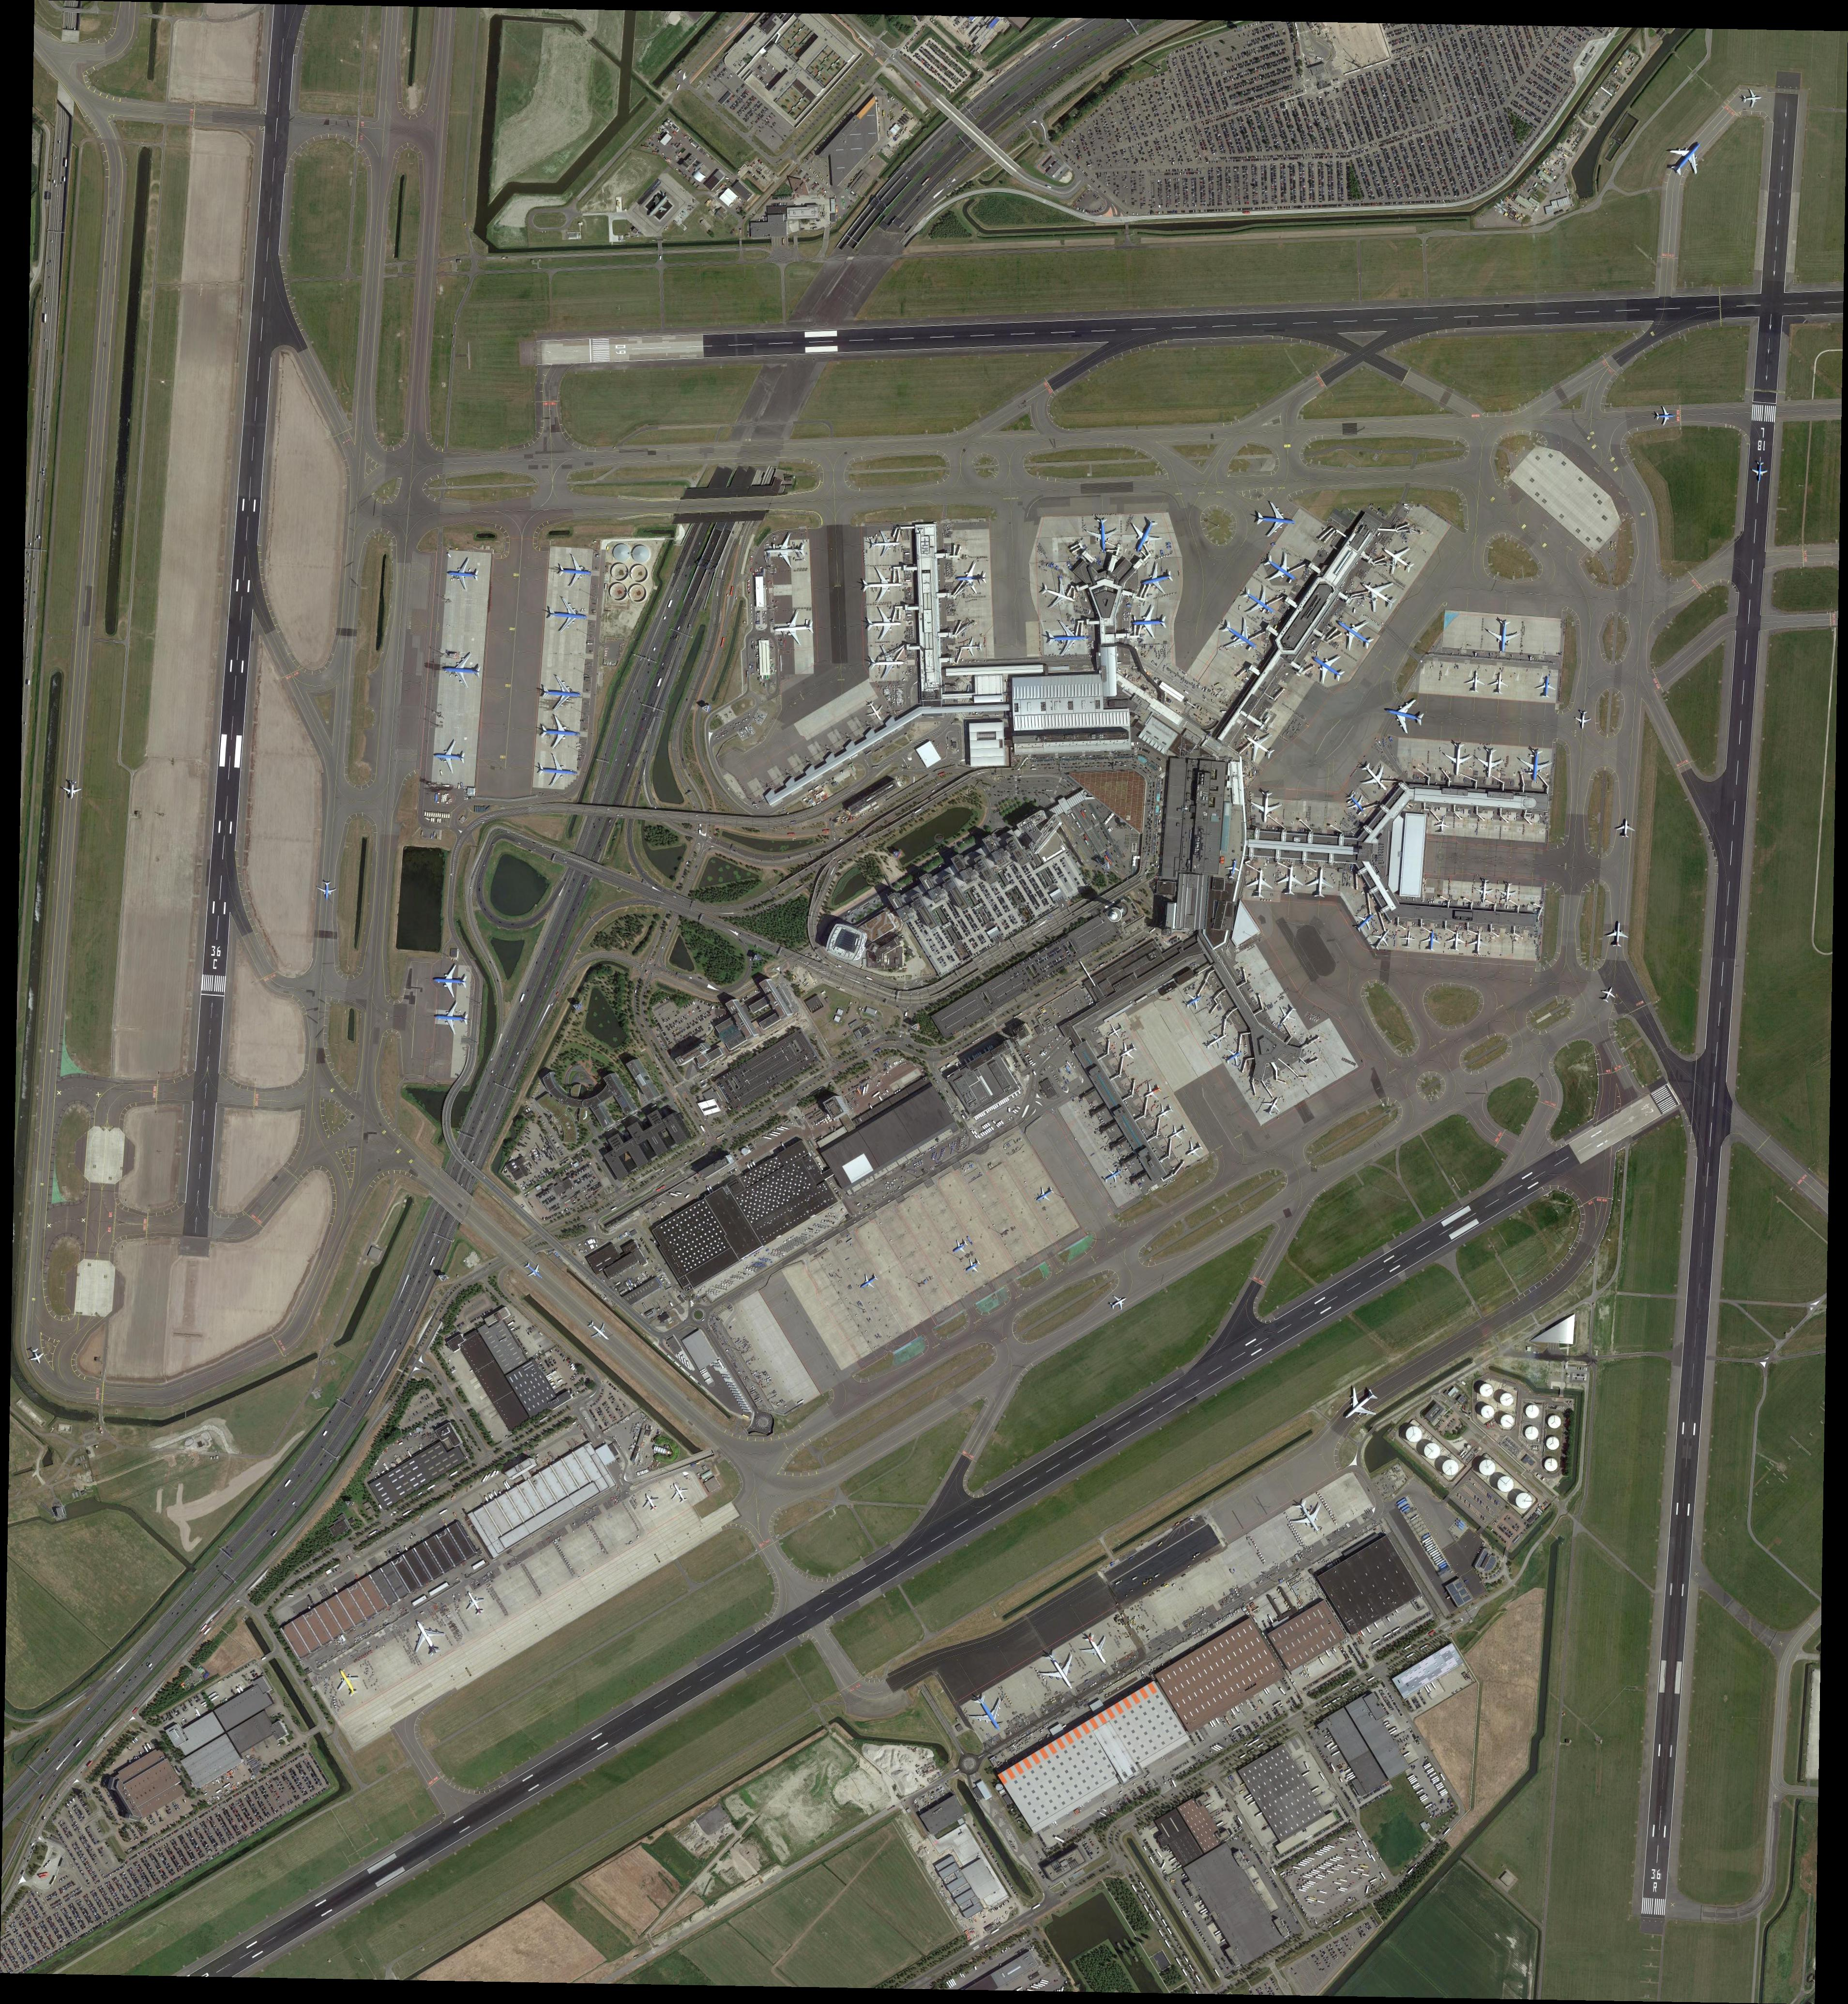plane: (1206, 607, 1270, 662), (1656, 131, 1715, 187), (1031, 1643, 1087, 1697), (400, 1609, 455, 1664), (1333, 1377, 1387, 1433), (963, 1685, 1016, 1740), (1326, 604, 1382, 656), (1235, 573, 1291, 625), (1283, 1491, 1333, 1545), (1258, 541, 1312, 590), (1356, 569, 1407, 620), (1304, 646, 1356, 695), (1379, 691, 1433, 737), (1120, 511, 1169, 560), (1375, 536, 1426, 583), (1249, 492, 1300, 538), (1037, 571, 1084, 618), (1352, 752, 1400, 800), (1235, 723, 1281, 770), (1073, 1623, 1117, 1671), (537, 670, 585, 714), (543, 594, 590, 635), (438, 651, 485, 693), (1513, 742, 1558, 784), (766, 529, 808, 571), (431, 1000, 475, 1040), (550, 552, 593, 592), (1045, 620, 1091, 658), (532, 751, 578, 789), (775, 606, 815, 648), (445, 553, 483, 597), (1138, 560, 1178, 601), (862, 566, 904, 604), (1482, 614, 1523, 653), (328, 1662, 366, 1702), (433, 737, 471, 777), (431, 964, 473, 1000), (536, 716, 581, 749), (869, 641, 906, 681), (1249, 787, 1286, 826), (866, 604, 904, 641), (579, 1313, 618, 1349), (1085, 515, 1120, 555), (457, 1585, 492, 1623), (955, 557, 988, 597), (1441, 738, 1475, 777), (1347, 904, 1382, 939), (1246, 861, 1274, 904), (642, 185, 675, 222), (1134, 606, 1167, 641), (1475, 744, 1506, 780), (1256, 1091, 1290, 1124), (1338, 787, 1373, 819), (866, 529, 902, 559), (1365, 923, 1398, 955), (1030, 1178, 1061, 1211), (859, 695, 892, 726), (1309, 862, 1335, 901), (1215, 1042, 1248, 1072), (1199, 1023, 1232, 1053), (853, 1266, 886, 1295), (1279, 861, 1305, 897), (635, 1487, 667, 1517), (665, 1479, 695, 1508), (518, 1257, 550, 1285), (948, 1231, 974, 1262), (1098, 1163, 1126, 1191), (1605, 918, 1630, 950), (1471, 875, 1497, 902), (1738, 87, 1766, 113), (1595, 981, 1621, 1009), (23, 1342, 49, 1370), (1180, 1136, 1208, 1163), (1164, 1119, 1192, 1145), (314, 875, 339, 904), (1180, 988, 1206, 1014), (1105, 1290, 1131, 1316), (1115, 1037, 1141, 1063), (958, 635, 986, 660), (1462, 669, 1487, 695), (960, 1253, 984, 1280), (1103, 1018, 1129, 1042), (1152, 1098, 1176, 1124), (1138, 1079, 1164, 1103), (1536, 674, 1558, 698), (59, 777, 82, 801), (1651, 405, 1677, 426), (1469, 930, 1490, 957), (1489, 670, 1509, 697), (1616, 817, 1639, 840), (1422, 929, 1443, 953), (1445, 929, 1466, 951), (1750, 459, 1769, 484), (1574, 709, 1593, 730), (1227, 857, 1242, 882), (1433, 813, 1450, 834), (1401, 927, 1415, 950)
